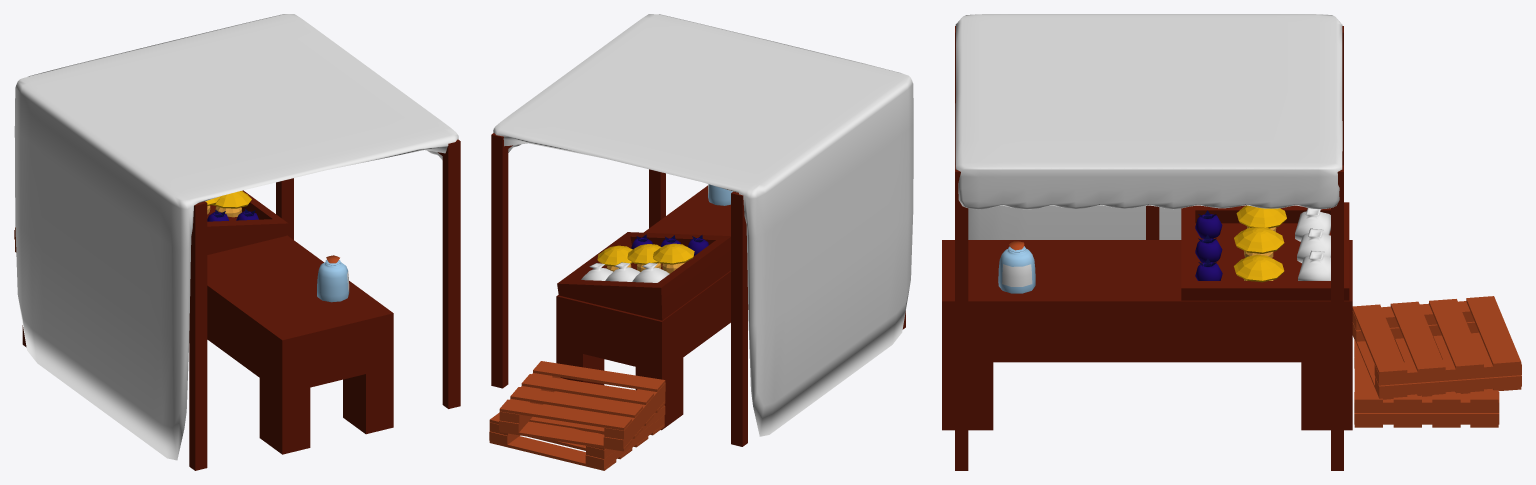
Rendered from MarketStall_Square.fbx.
The picture shows the model from 3 angles, left to right: view 1: azimuth 30°, elevation 25°; view 2: azimuth 150°, elevation 25°; view 3: azimuth 270°, elevation 25°; orthographic projection. The views are drawn at different scales.
Parts seen in each view (by area): view 1: Cube.001, Cube.012, Cube.010, Cube.006, Cube.014, Cylinder.002, Cube.009, Cylinder.016; view 2: Cube.001, Cube.012, Cube.017, Cube.014, Cube.009, Cube.008, Cube.018, Cube.010, Cylinder.014, Cylinder.016, Cylinder.015, Cube.028; view 3: Cube.001, Cube.012, Cube.017, Cube.014, Cube.018, Cube.010, Cube.009, Cylinder.002, Cylinder.015, Cylinder.016, Cylinder.014, Cube.021 (+2 smaller).
Boxes of the visible parts, bbox=[...] form: Cube.001: bbox=[14, 14, 458, 460]; Cube.012: bbox=[207, 235, 393, 454]; Cube.010: bbox=[442, 139, 460, 408]; Cube.006: bbox=[189, 201, 207, 470]; Cube.014: bbox=[207, 190, 288, 254]; Cylinder.002: bbox=[317, 255, 349, 302]; Cube.009: bbox=[276, 178, 293, 239]; Cylinder.016: bbox=[212, 191, 251, 217]; Cube.001: bbox=[493, 14, 913, 436]; Cube.012: bbox=[556, 185, 748, 430]; Cube.017: bbox=[499, 361, 665, 451]; Cube.014: bbox=[557, 232, 730, 320]; Cube.009: bbox=[491, 133, 508, 388]; Cube.008: bbox=[731, 191, 747, 446]; Cube.018: bbox=[489, 378, 665, 470]; Cube.010: bbox=[649, 169, 665, 228]; Cylinder.014: bbox=[653, 243, 694, 273]; Cylinder.016: bbox=[597, 245, 632, 271]; Cylinder.015: bbox=[627, 244, 661, 271]; Cube.028: bbox=[632, 262, 669, 282]; Cube.001: bbox=[955, 14, 1342, 239]; Cube.012: bbox=[942, 240, 1352, 430]; Cube.017: bbox=[1352, 296, 1521, 399]; Cube.014: bbox=[1181, 202, 1349, 300]; Cube.018: bbox=[1354, 339, 1499, 427]; Cube.010: bbox=[955, 165, 968, 470]; Cube.009: bbox=[1331, 165, 1343, 470]; Cylinder.002: bbox=[998, 241, 1035, 293]; Cylinder.015: bbox=[1234, 227, 1284, 257]; Cylinder.016: bbox=[1234, 254, 1284, 282]; Cylinder.014: bbox=[1236, 205, 1286, 231]; Cube.021: bbox=[1298, 250, 1330, 280].
Bounding box in the file's own units: 506 × 467 × 800.
